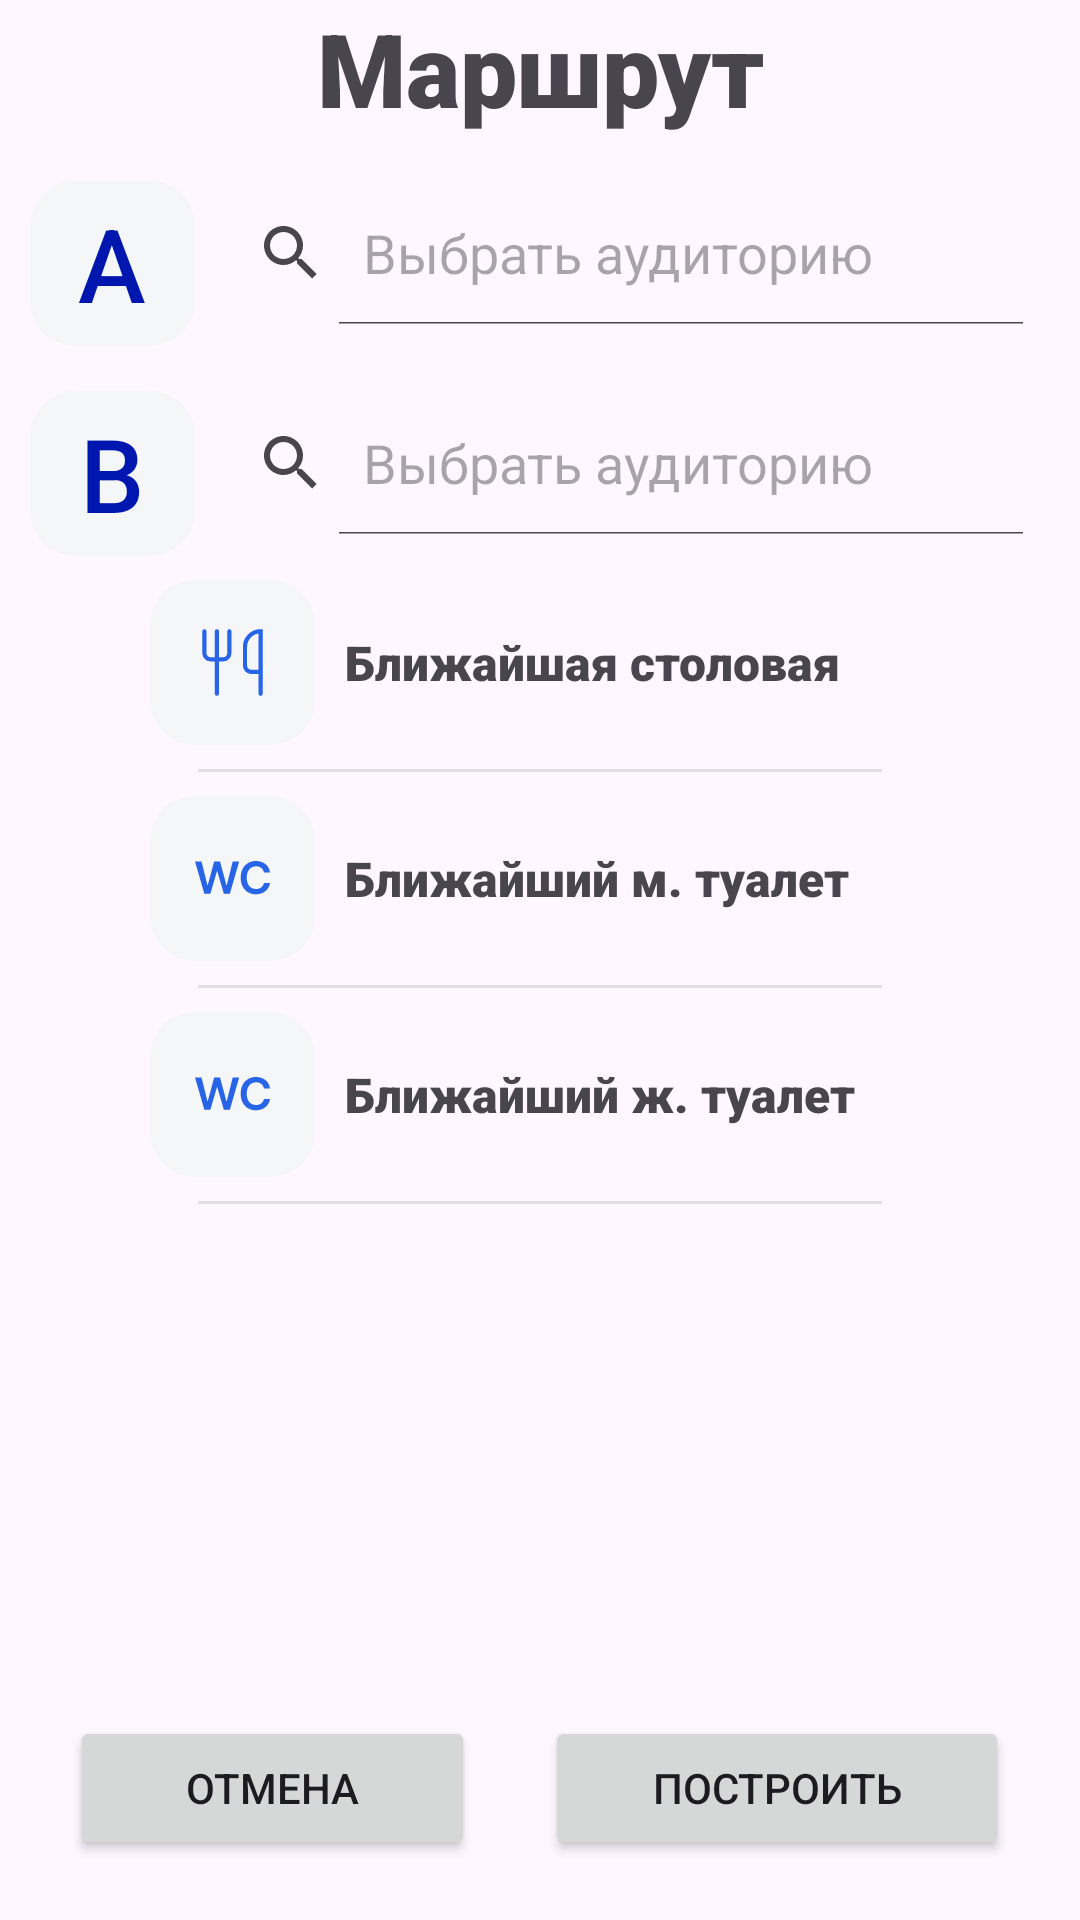

Icons on this 1080 × 1920 Android screen, each with the point to tap as point (x, y):
canteen: point (232, 662)
